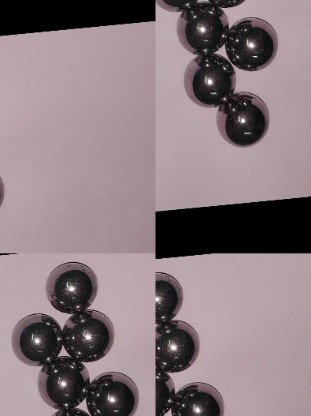ironball: (209, 85, 273, 150), (225, 11, 283, 80), (180, 51, 238, 107), (59, 308, 117, 364), (42, 262, 103, 313), (37, 351, 92, 407), (174, 0, 224, 55), (88, 368, 147, 414), (12, 312, 63, 361), (157, 317, 202, 369), (170, 374, 223, 416), (152, 267, 185, 326)
